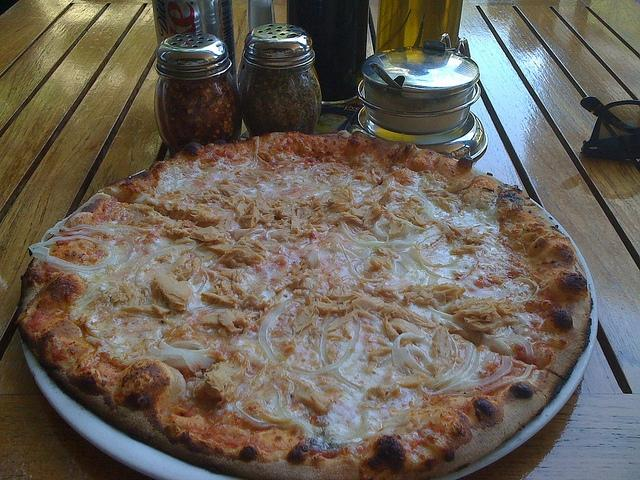onion: (258, 301, 360, 376), (41, 193, 112, 243), (28, 235, 116, 272), (319, 322, 360, 390), (444, 355, 512, 394), (148, 337, 218, 374), (420, 352, 480, 394), (132, 244, 192, 286), (428, 343, 474, 390), (428, 308, 480, 346), (392, 332, 425, 376), (58, 224, 128, 244), (340, 220, 390, 248), (388, 202, 430, 230), (236, 400, 278, 426), (400, 344, 432, 376), (122, 354, 186, 368), (398, 185, 430, 210), (420, 250, 460, 268), (509, 334, 534, 357), (512, 278, 540, 298), (310, 163, 344, 174), (170, 340, 203, 350), (348, 258, 362, 280), (266, 228, 288, 241), (252, 136, 260, 168), (276, 179, 290, 188), (350, 181, 363, 188)
